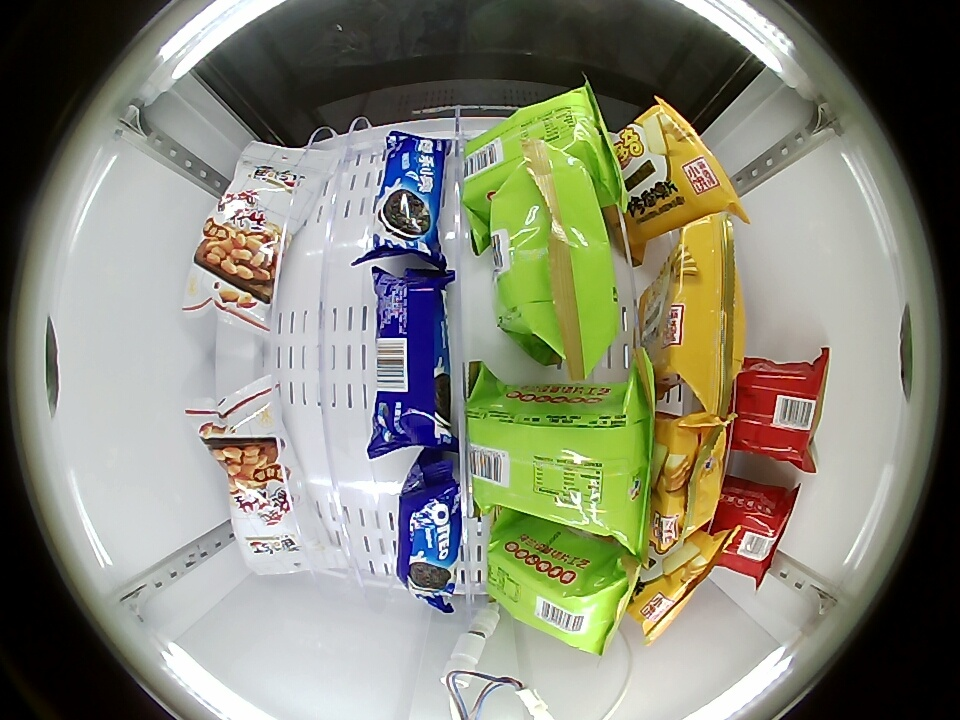kaomo_gali: (636, 218, 742, 394), (613, 103, 739, 244), (645, 413, 729, 554), (630, 527, 722, 638)
kaomo_shaokao: (730, 358, 825, 461), (711, 481, 798, 582)
kaomo_xiangcon: (470, 160, 623, 369), (467, 383, 651, 542), (460, 90, 618, 226), (487, 515, 637, 655)
